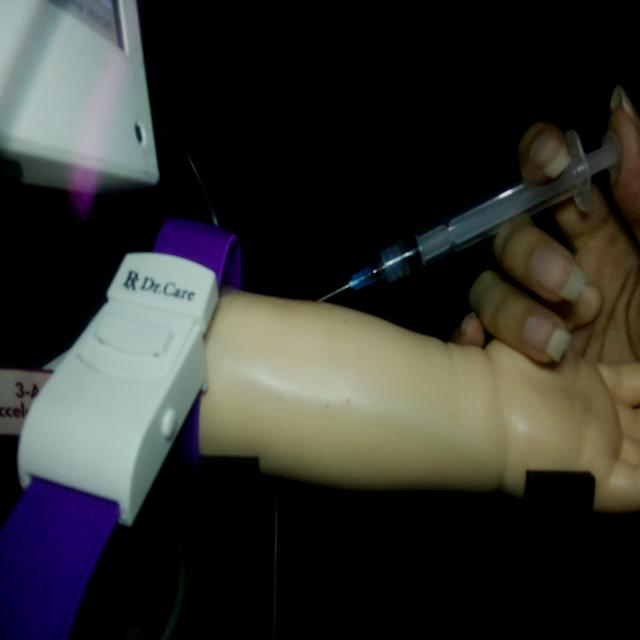17 degrees: (315, 116, 625, 306)
